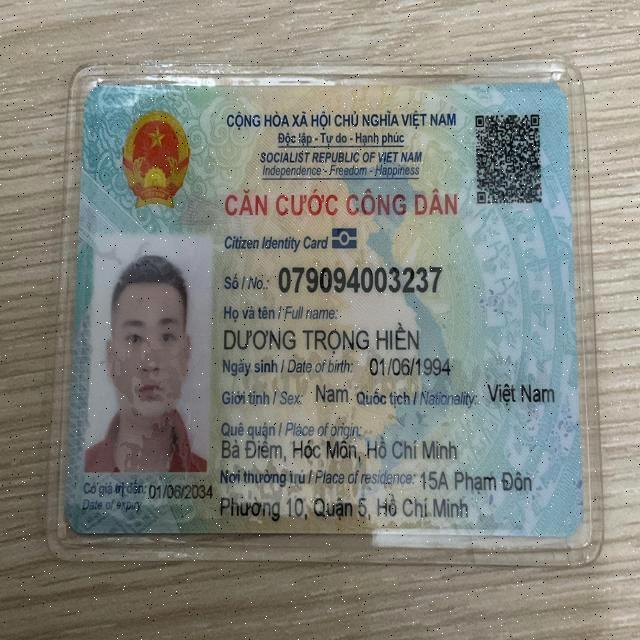current_place: (221, 488, 470, 521), (419, 467, 532, 495)
dob: (366, 352, 457, 378)
expire_date: (146, 479, 214, 507)
gender: (312, 380, 351, 407)
id: (273, 262, 444, 298)
name: (221, 322, 422, 354)
nationality: (484, 374, 562, 410)
origin_place: (218, 434, 459, 463)
qr: (472, 108, 550, 206)
